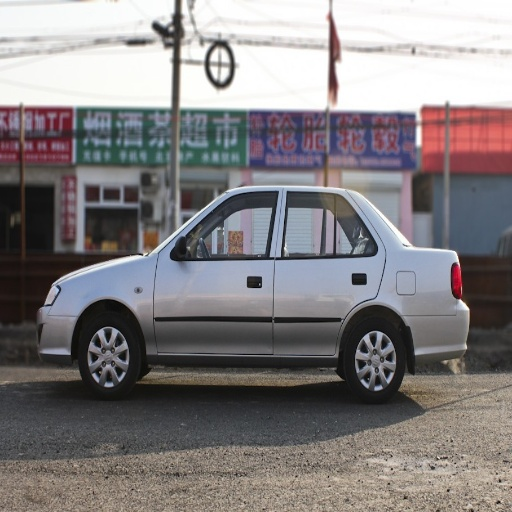back_left_door: (273, 188, 384, 354)
front_left_door: (156, 190, 283, 353)
trunk: (219, 15, 329, 115)
